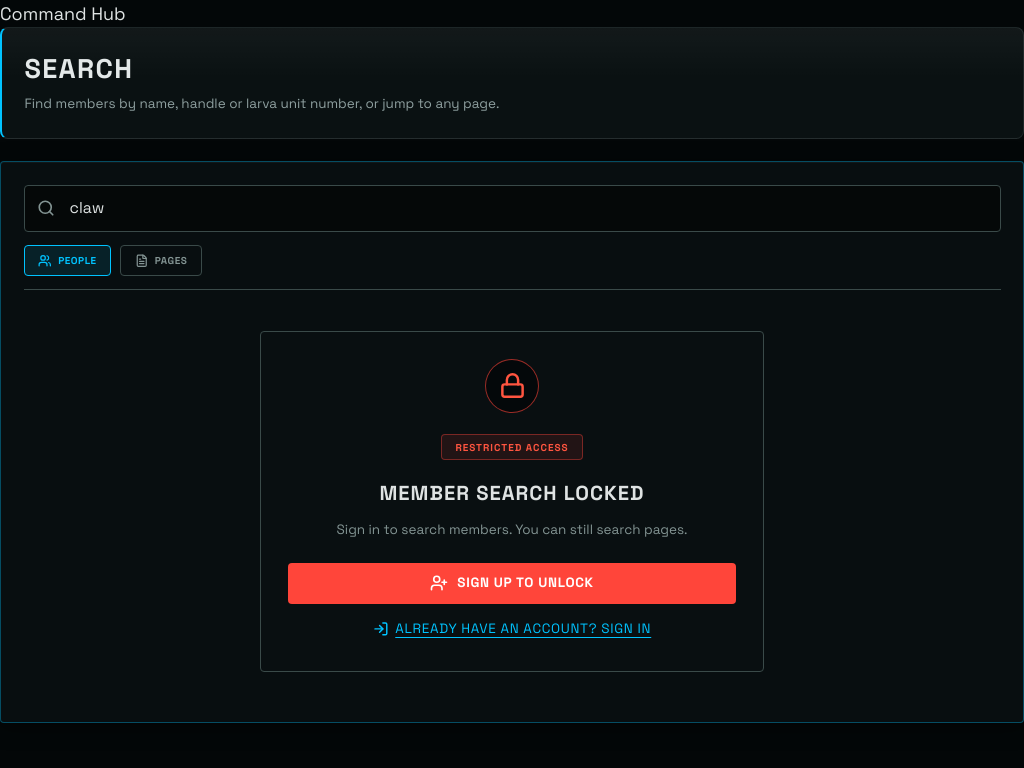
Test: SearchPage › opens sign-in from the inline people lock without covering the tabs
Click the button "Already have an account? Sign In": coordinates (512, 629) x1=373 y1=620 x2=651 y2=638
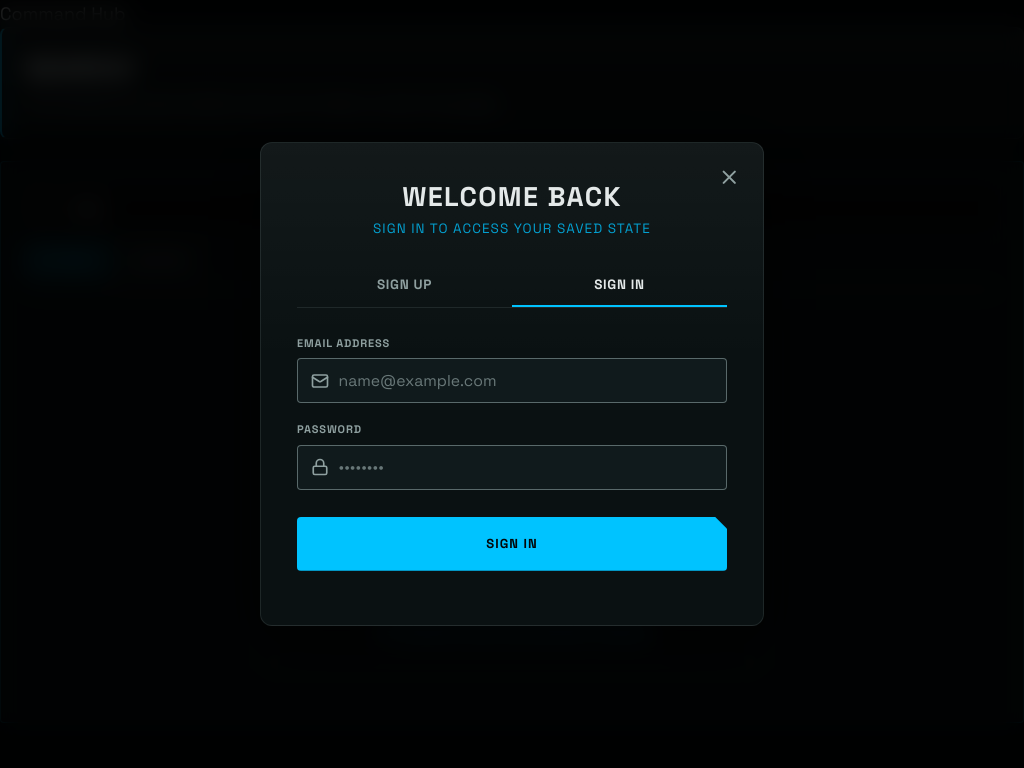
Expected: the link "Command Hub" is shown, x1=0 y1=2 x2=126 y2=25
Now the heading "Welcome Back" is shown, box x1=402 y1=179 x2=622 y2=214
